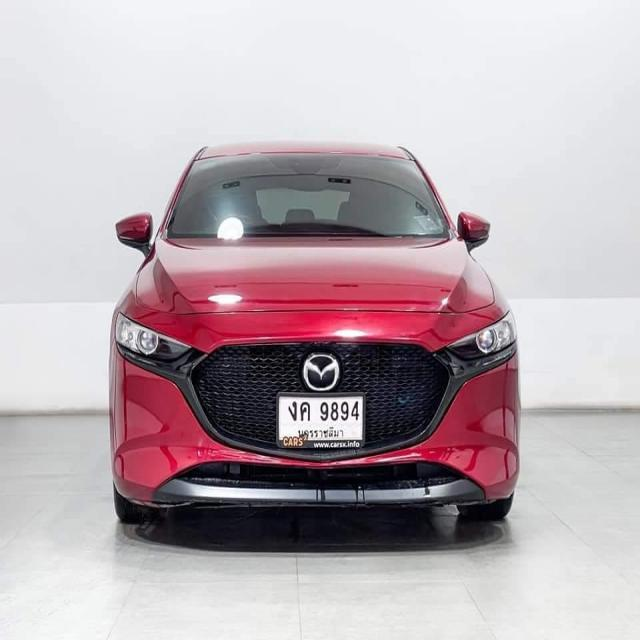Hatchback: (108, 140, 522, 545)
